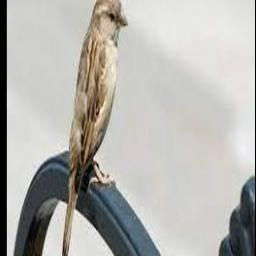Sparrow: (61, 0, 127, 256)
